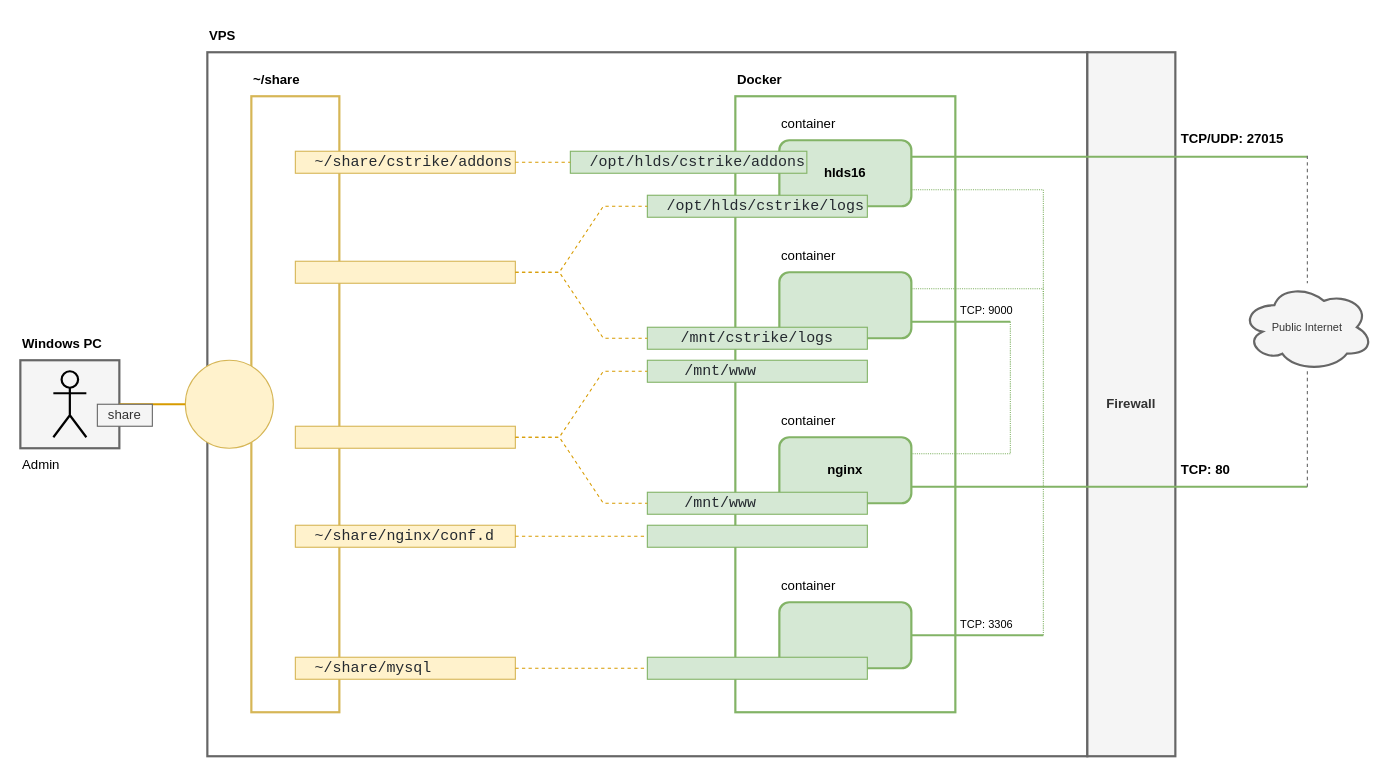
Some shapes in this 1393 by 776 pixel diagram are drawn without their labels. Here are the shapes that lost their labels. From the top down, the centre of each, then its label:
At point 404,271: "~/share/cstrike/logs".
At point 845,305: "php-fpm-54".
At point 228,403: "smb".
At point 404,436: "~/share/nginx/www".
At point 756,535: "/etc/nginx/conf.d".
At point 845,635: "mysql-57".
At point 756,667: "/mnt/mysql".
